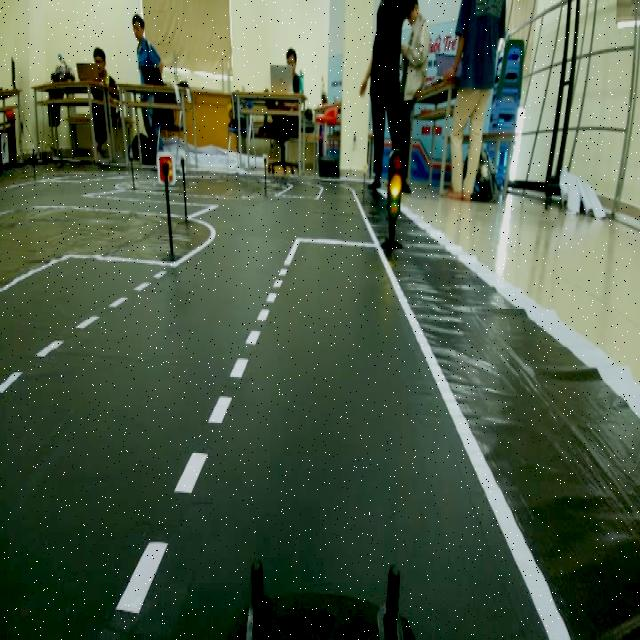trafficlight: (380, 146, 407, 263)
